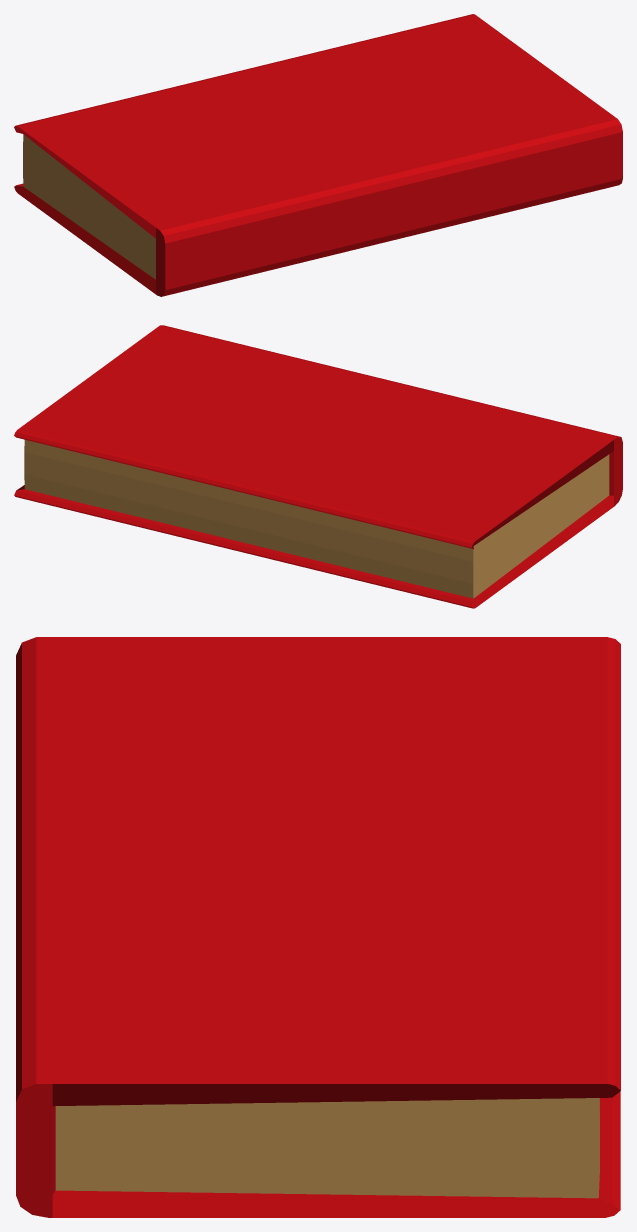
The model's file is Libro.obj.
The picture shows the model from 3 angles, top to bottom: view 1: azimuth 30°, elevation 25°; view 2: azimuth 150°, elevation 25°; view 3: azimuth 270°, elevation 25°; orthographic projection. The views are drawn at different scales.
Parts seen in each view (by area): view 1: Plane; view 2: Plane; view 3: Plane.
Boxes of the visible parts, x1,y1,x2,y2 form: Plane: (14, 14, 622, 296); Plane: (14, 325, 622, 608); Plane: (16, 637, 620, 1217).
Bounding box in the file's own units: 0.8878 × 0.1241 × 0.5081.
